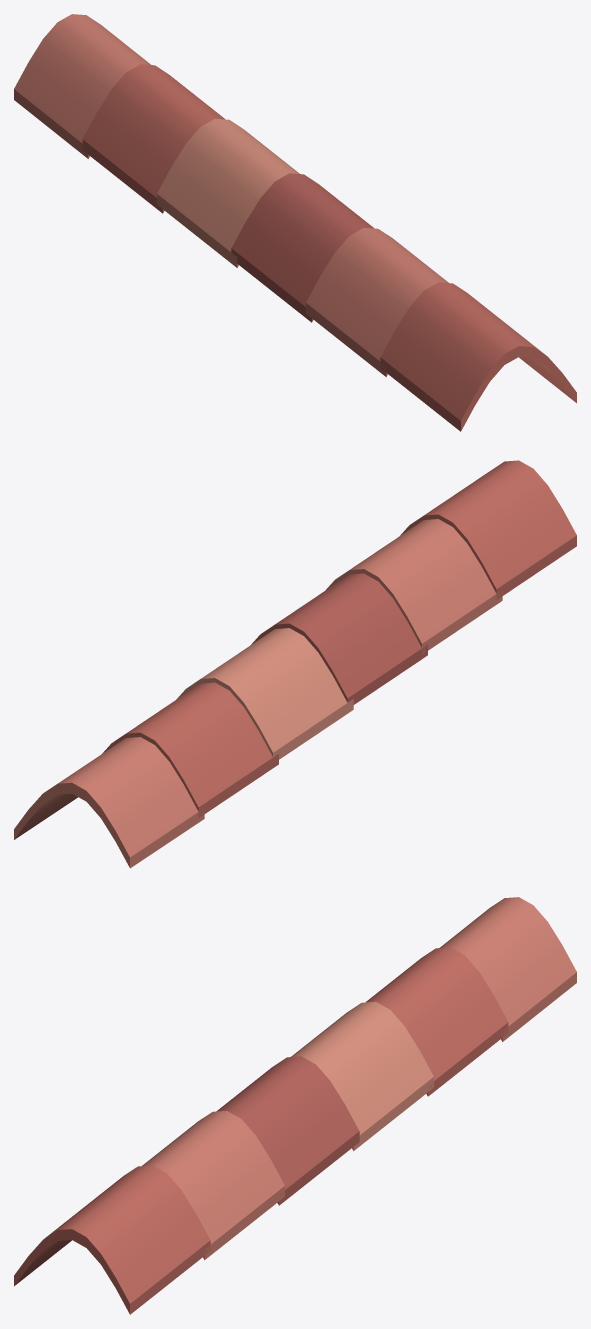
Rendered from roof_ridge_terracotta_2m.glb.
3 renders of one model, top to bottom at view 1: azimuth 30°, elevation 25°; view 2: azimuth 150°, elevation 25°; view 3: azimuth 330°, elevation 25°, orthographic.
Visible parts, largest first — view 1: roof_ridge_terracotta_2m; view 2: roof_ridge_terracotta_2m; view 3: roof_ridge_terracotta_2m.
Part boxes in pixels (x1,y1,x2,y2): roof_ridge_terracotta_2m: (14, 14, 576, 431); roof_ridge_terracotta_2m: (14, 460, 576, 868); roof_ridge_terracotta_2m: (14, 897, 576, 1314).
Size of the model in its own units: 0.3 by 0.189 by 2.
